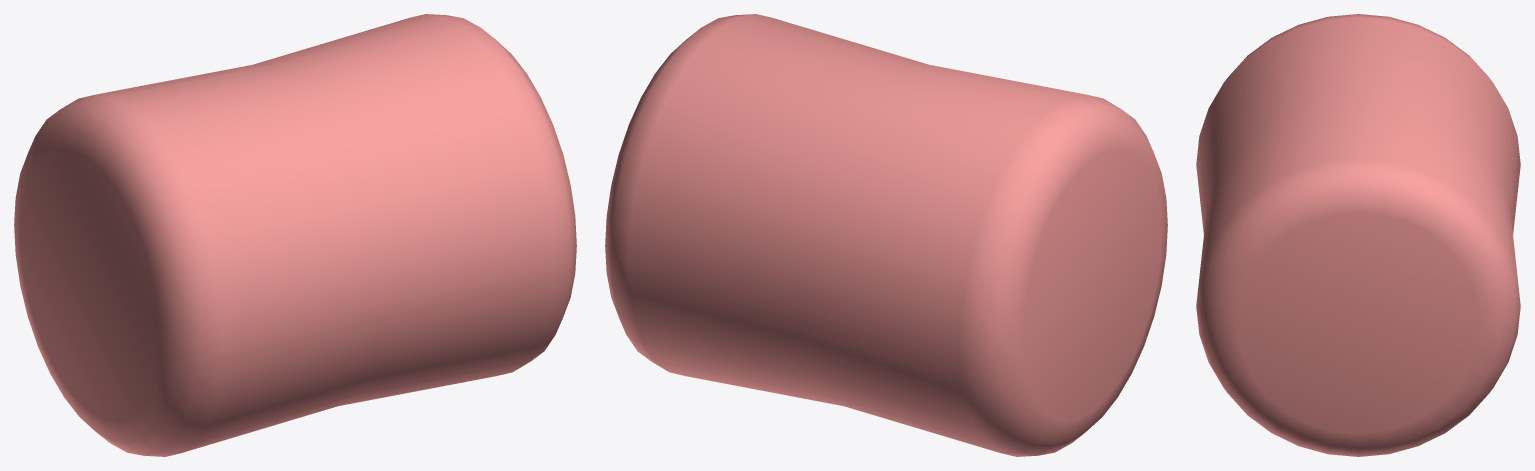
File: DeadMarshmallowRed.fbx
3 renders of one model, left to right at view 1: azimuth 30°, elevation 25°; view 2: azimuth 150°, elevation 25°; view 3: azimuth 270°, elevation 25°, orthographic. The views are drawn at different scales.
Visible parts, largest first — view 1: MarshRed; view 2: MarshRed; view 3: MarshRed.
Boxes of the visible parts, x1,y1,x2,y2 form: MarshRed: [14, 14, 576, 456]; MarshRed: [605, 14, 1167, 456]; MarshRed: [1196, 14, 1520, 456].
Bounding box in the file's own units: 135 × 105 × 105.
